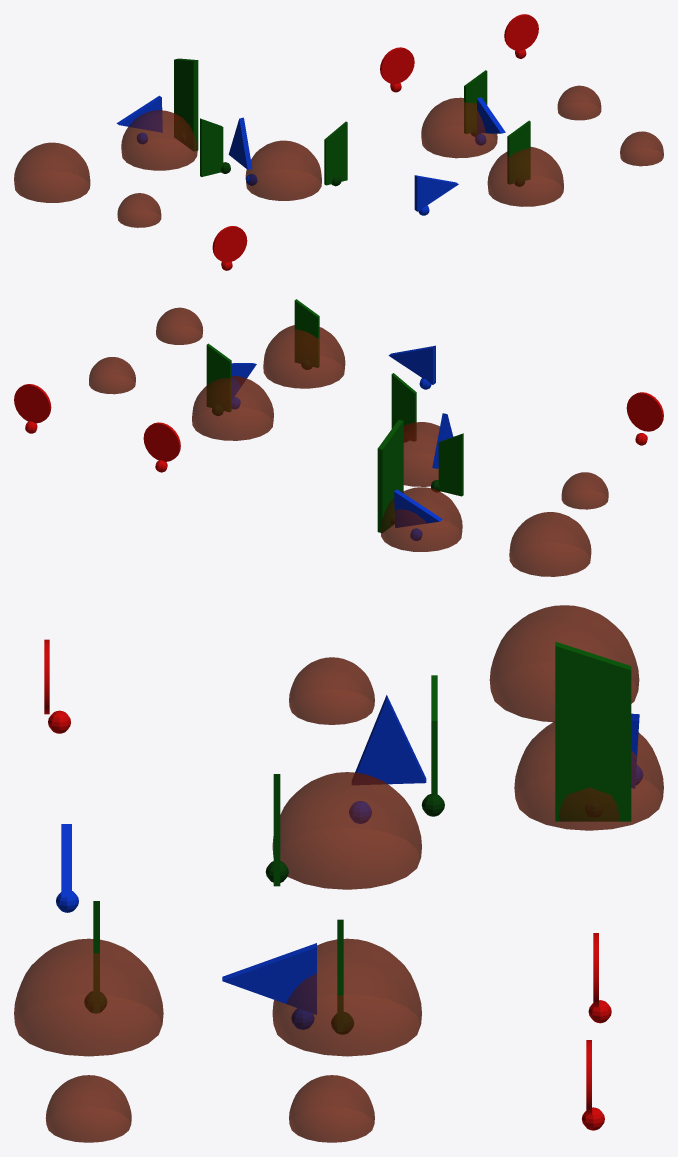
The model's file is Wayfinding.dae.
3 views of the same model, one above another, from view 1: azimuth 30°, elevation 25°; view 2: azimuth 150°, elevation 25°; view 3: azimuth 270°, elevation 25° (orthographic). The views are drawn at different scales.
Parts seen in each view (by area): view 1: decision_points, pylon_signs, wayout_signs, regulatory_signs, locations; view 2: decision_points, pylon_signs, regulatory_signs, wayout_signs, locations; view 3: decision_points, pylon_signs, wayout_signs, locations, regulatory_signs.
Part boxes in pixels (x1,y1,x2,y2): decision_points: (14,85,663,227); pylon_signs: (174,58,530,185); wayout_signs: (116,95,505,211); regulatory_signs: (212,14,538,262); locations: (137,49,526,270); decision_points: (89,307,608,576); pylon_signs: (206,299,463,532); regulatory_signs: (14,384,663,461); wayout_signs: (231,345,453,527); locations: (25,359,647,540); decision_points: (14,605,663,1142); pylon_signs: (93,641,631,1031); wayout_signs: (61,695,639,1014); locations: (48,710,642,1130); regulatory_signs: (44,639,598,1114).
Size of the model in its own units: 15.79 by 2.69 by 8.69.
